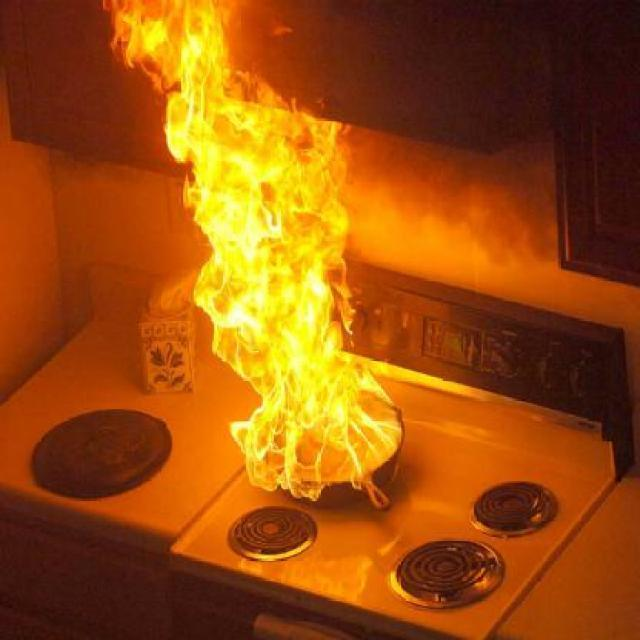Fire: (113, 0, 418, 525)
Smoke: (0, 0, 640, 297)
